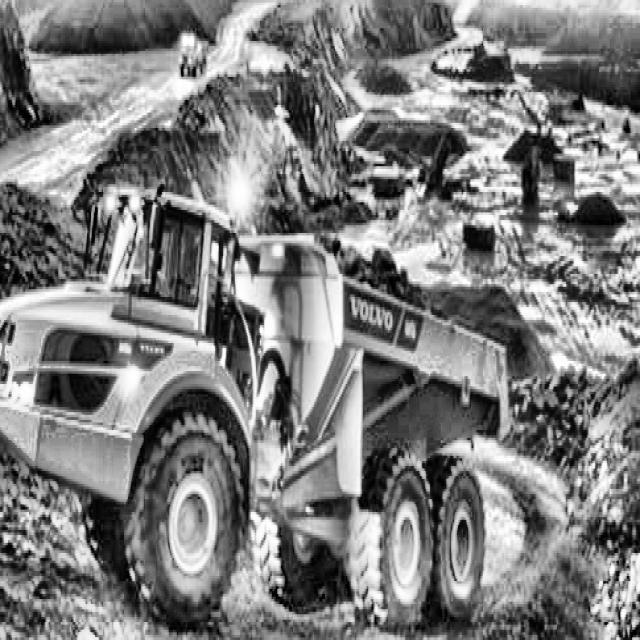dump_truck: (0, 148, 516, 640)
